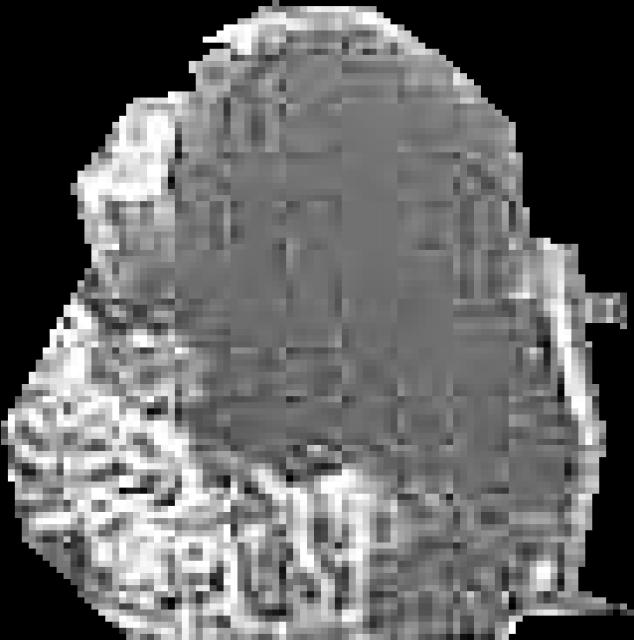tumor_less_chance: (1, 0, 634, 640)
